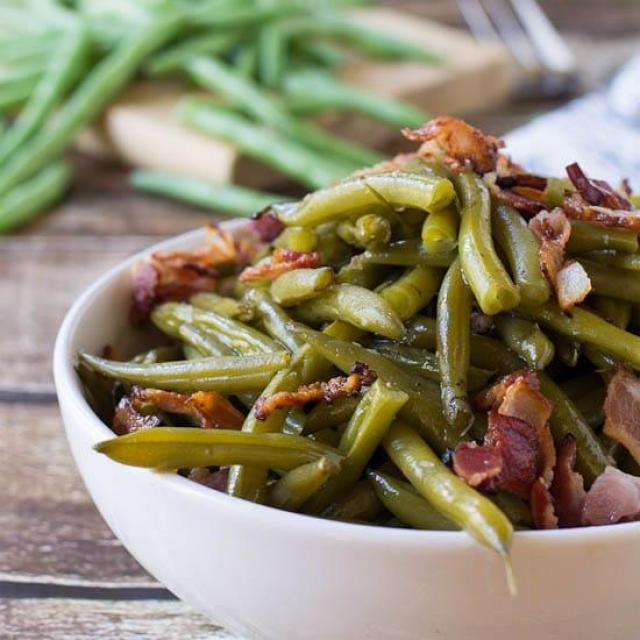Beans: (88, 121, 639, 543)
